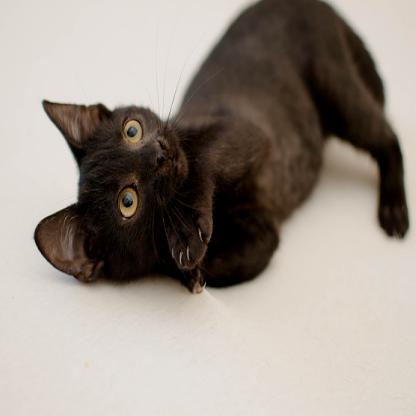cat: (27, 0, 408, 296)
